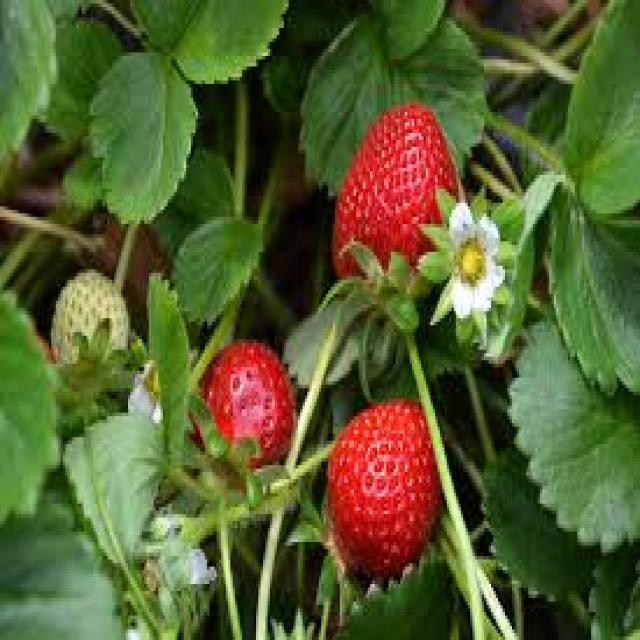strawberry: (316, 102, 462, 347), (319, 395, 450, 583)
